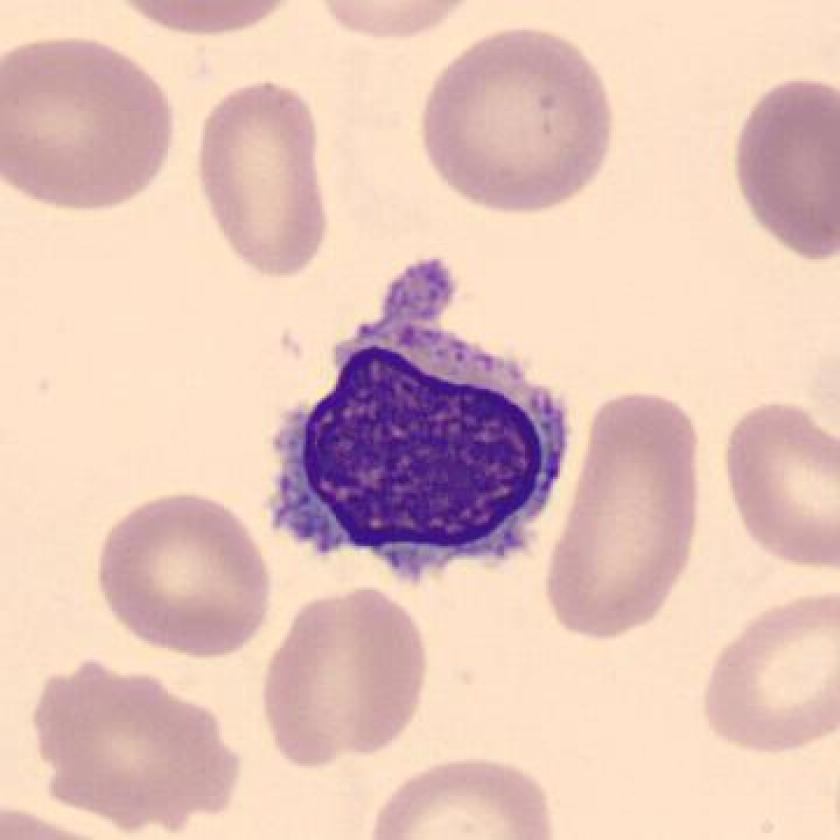lymphocyte: (260, 253, 587, 589)
